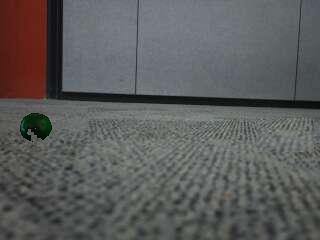Lime: (19, 113, 53, 143)
